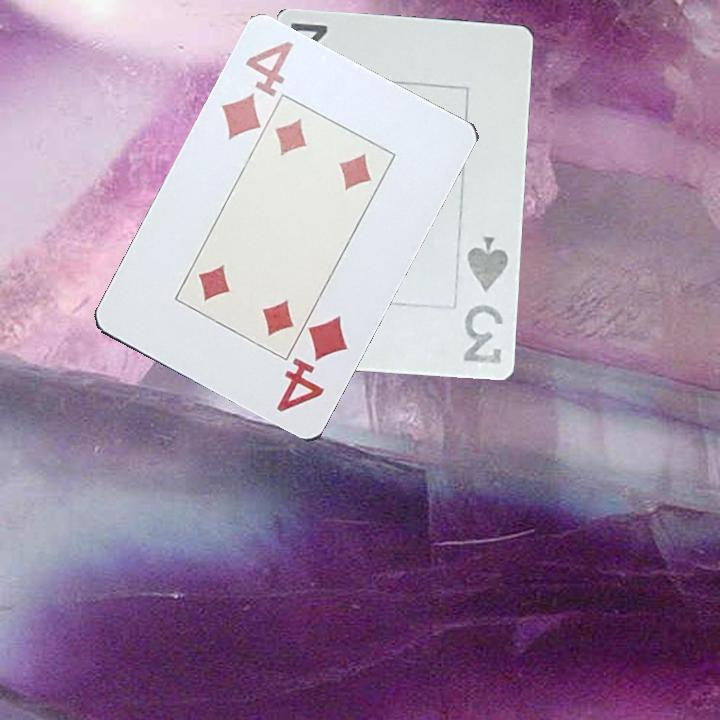3s: (460, 233, 512, 370)
4d: (217, 38, 297, 144), (273, 312, 351, 416)
